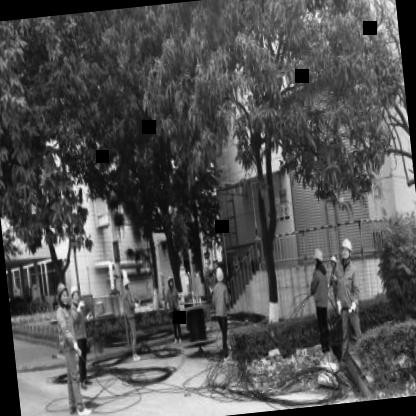helmet: (54, 280, 71, 312), (338, 235, 354, 264), (309, 243, 326, 270), (213, 263, 228, 286), (68, 284, 80, 312), (121, 272, 134, 294)
